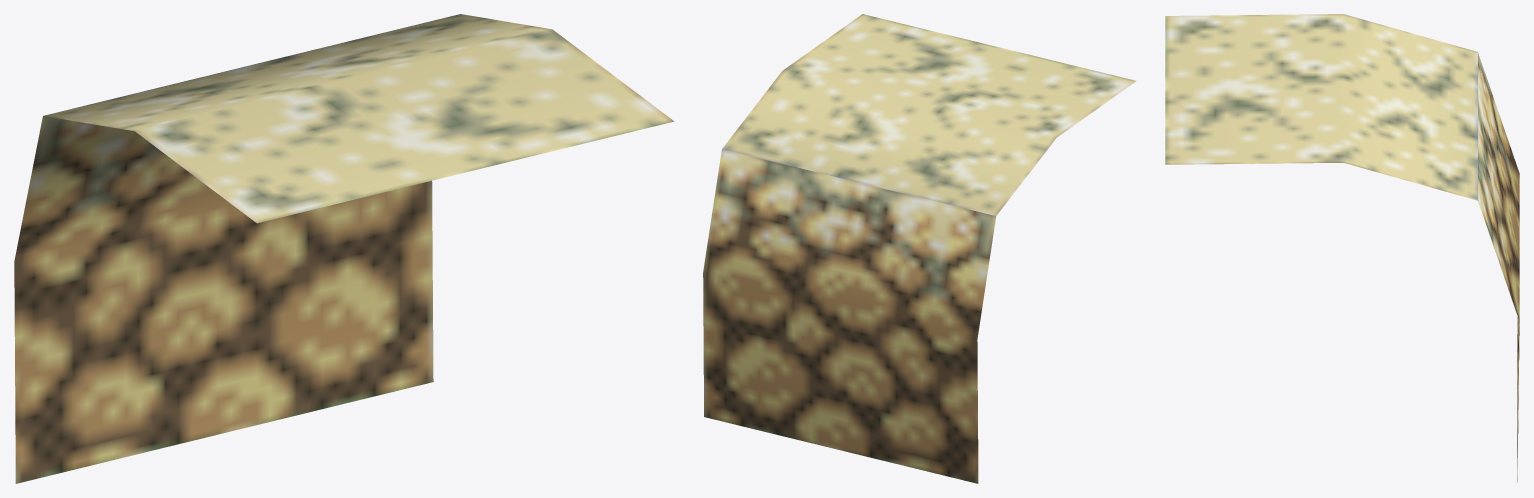
The model's file is sandDTile_innerEdge_lower.fbx.
The picture shows the model from 3 angles, left to right: view 1: azimuth 30°, elevation 25°; view 2: azimuth 150°, elevation 25°; view 3: azimuth 270°, elevation 25°; orthographic projection. The views are drawn at different scales.
Visible parts, largest first — view 1: sandDTile_innerEdge_lower; view 2: sandDTile_innerEdge_lower; view 3: sandDTile_innerEdge_lower.
Boxes of the visible parts, left/top/right/bottom form: sandDTile_innerEdge_lower: left=14, top=14, right=674, bottom=483; sandDTile_innerEdge_lower: left=703, top=14, right=1136, bottom=483; sandDTile_innerEdge_lower: left=1165, top=14, right=1519, bottom=482.
Size of the model in its own units: 1 by 1.01 by 1.01.
